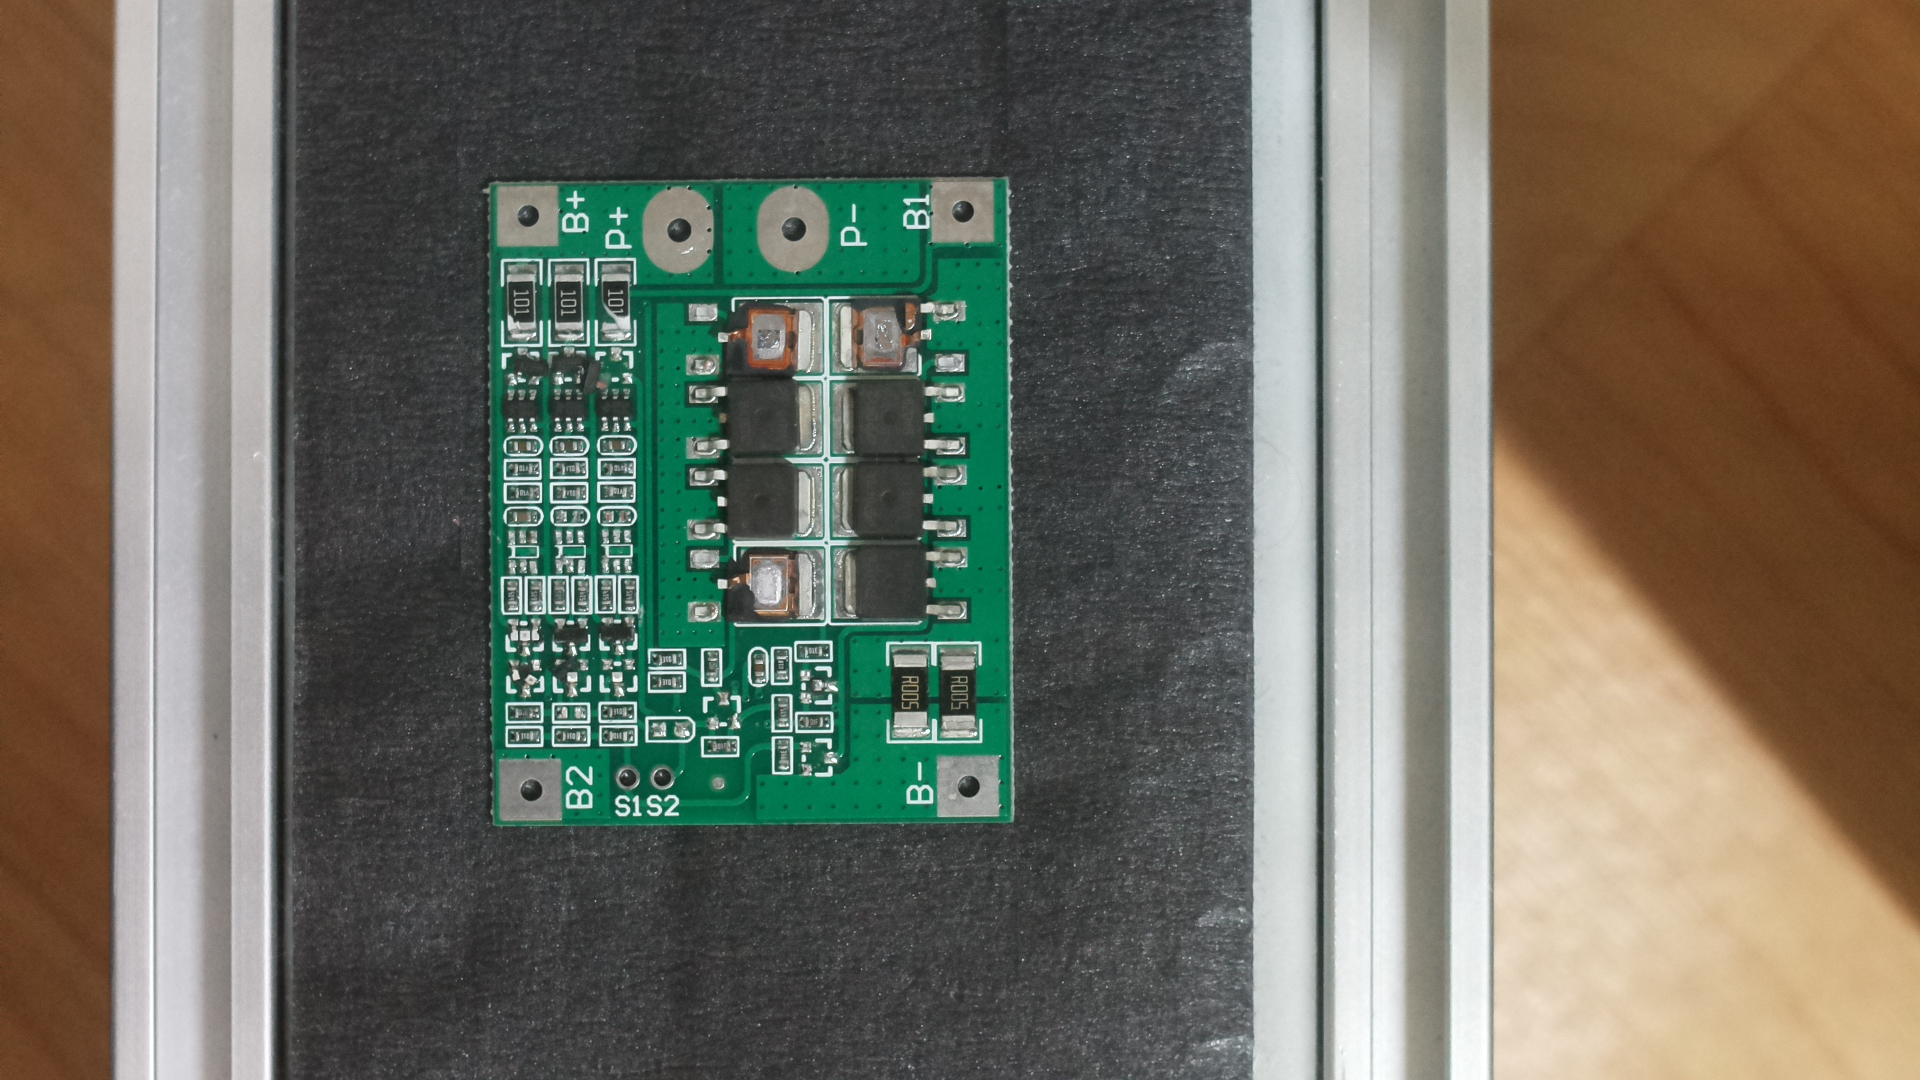C_Missing_part: (467, 162, 1038, 860)
